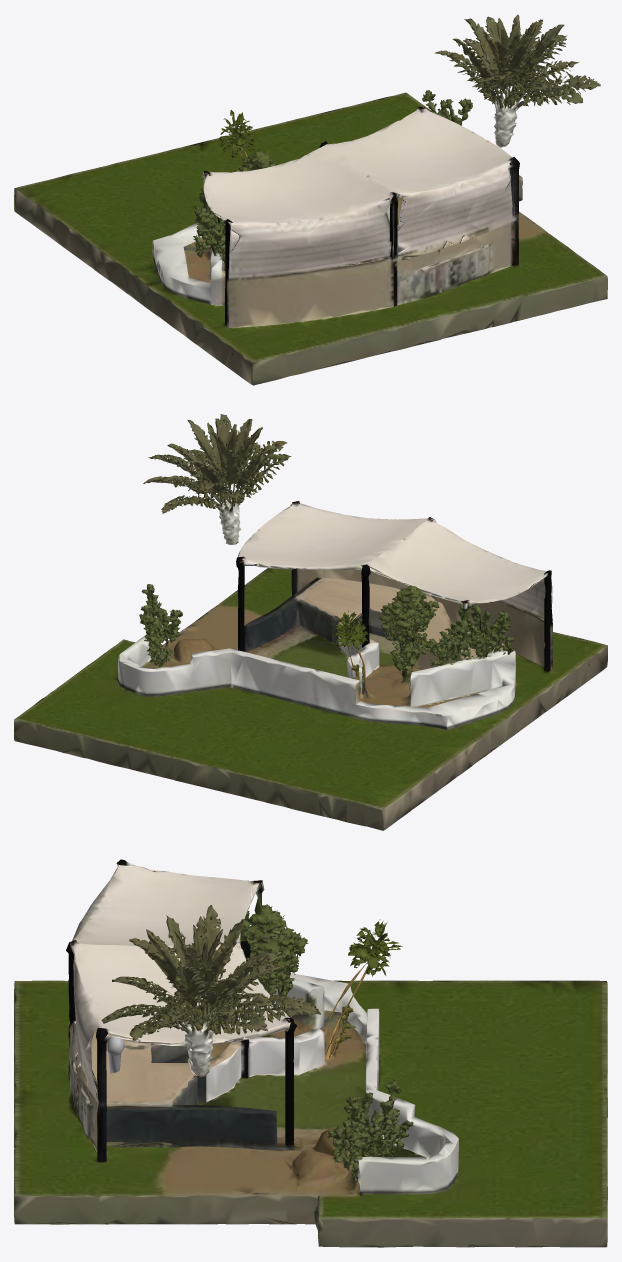
Rendered from la-plage-beach-1.glb.
3 renders of one model, top to bottom at view 1: azimuth 30°, elevation 25°; view 2: azimuth 150°, elevation 25°; view 3: azimuth 270°, elevation 25°, orthographic. The views are drawn at different scales.
Size of the model in its own units: 0.9738 by 0.5266 by 1.
1 material, 1 textured.
